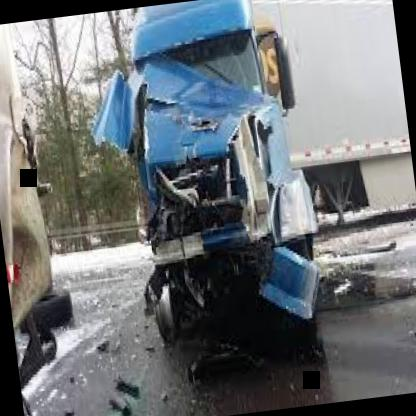accident: (58, 0, 416, 357)
